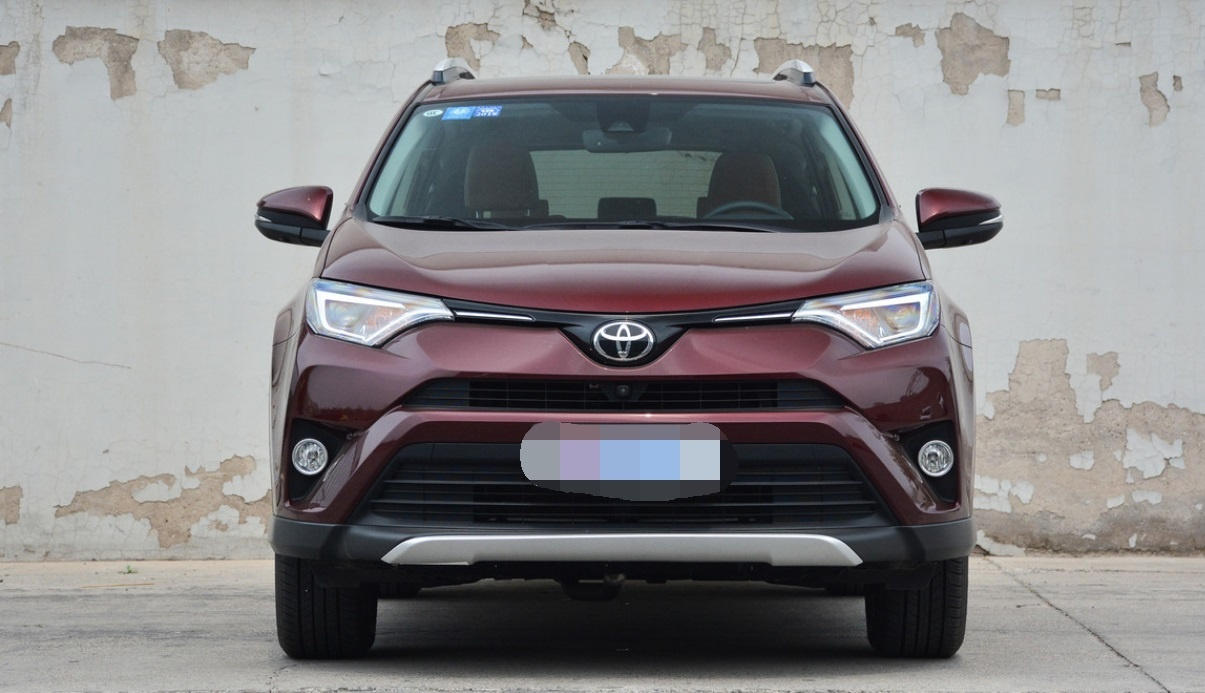SUV: (276, 46, 998, 641)
